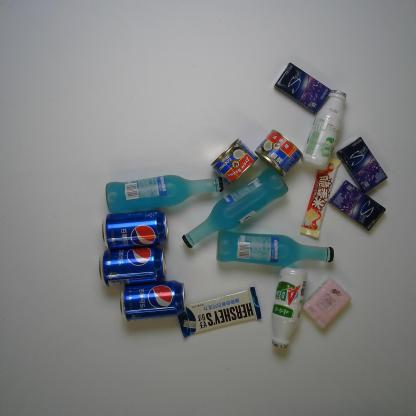Alcohol: (180, 168, 288, 249), (214, 224, 337, 271), (104, 171, 224, 213)
Canned Food: (255, 128, 304, 177), (210, 138, 258, 186)
Chocolate: (176, 288, 262, 338), (300, 153, 341, 242)
Drink: (116, 278, 186, 323), (96, 249, 169, 288), (101, 212, 170, 250)
Gum: (329, 178, 387, 233), (276, 64, 332, 116), (336, 137, 386, 193)
Milk: (302, 87, 350, 170), (267, 268, 309, 350)
Tissue: (303, 277, 350, 332)
